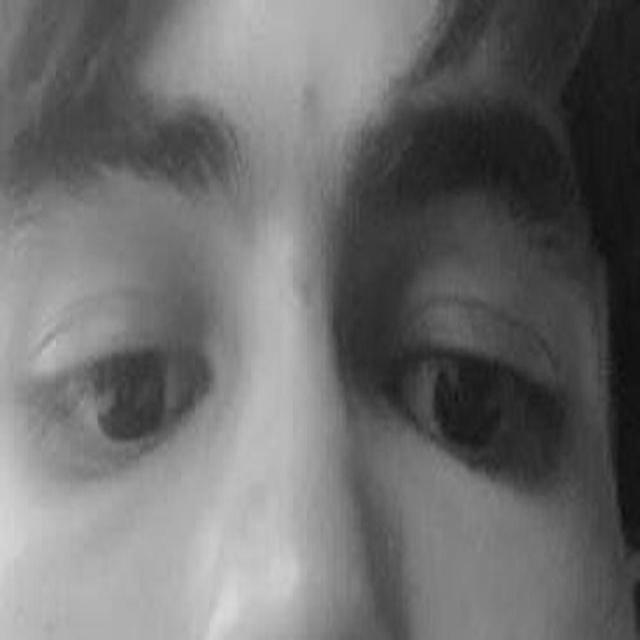real: (12, 149, 588, 555)
